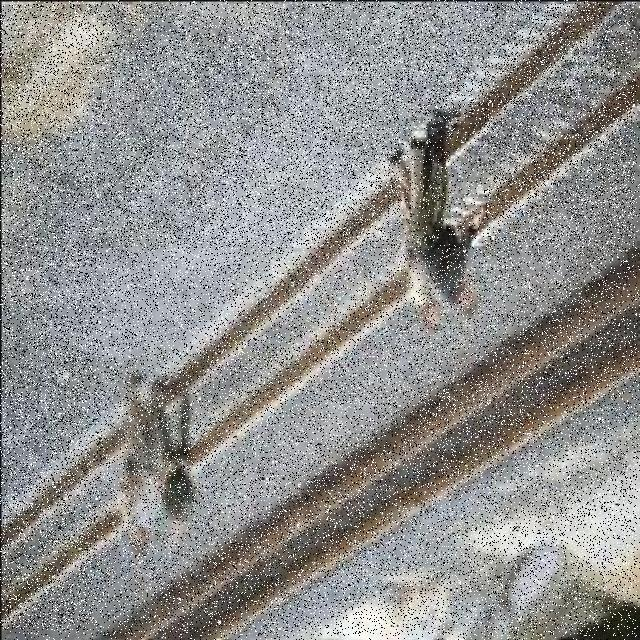danger: (400, 114, 486, 317), (114, 365, 194, 538)
rail: (1, 5, 635, 630), (99, 249, 637, 636)
